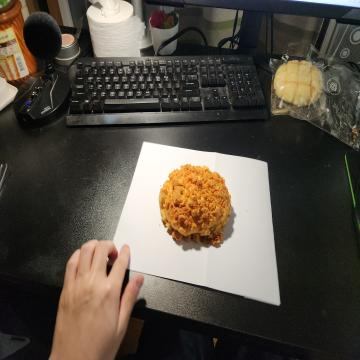soboru_bread: (158, 162, 232, 249)
